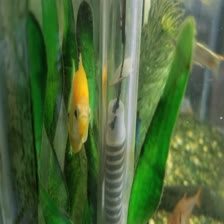Plano: (67, 47, 91, 153)
